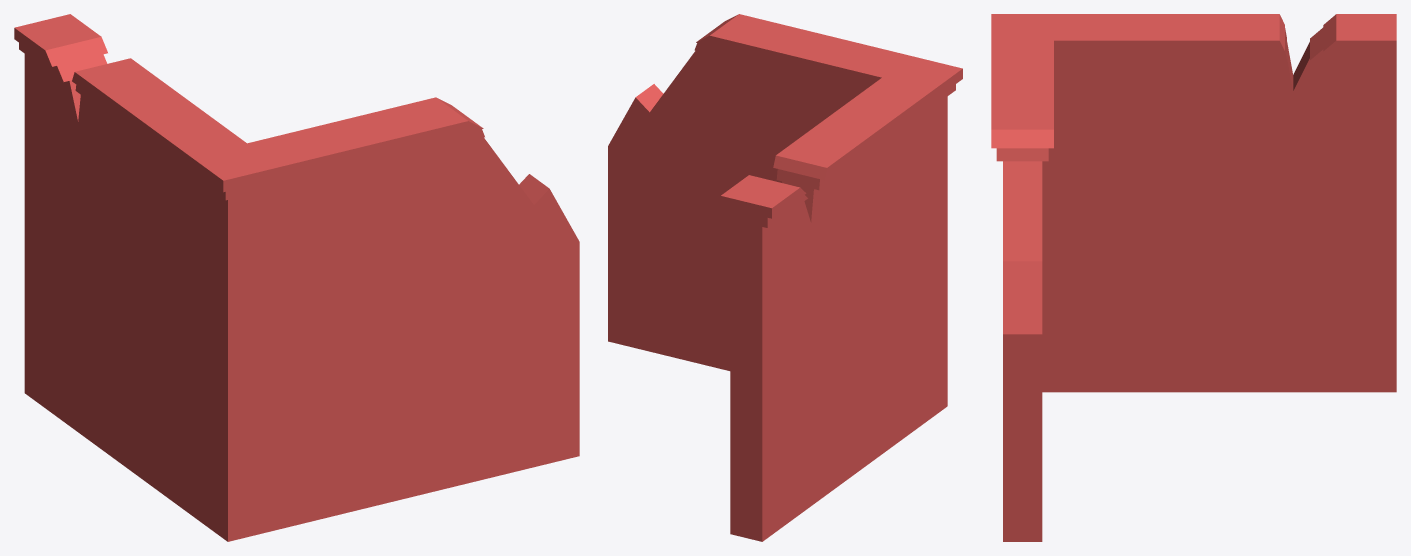
Rendered from WallDestroyed_B.fbx.
3 renders of one model, left to right at view 1: azimuth 30°, elevation 25°; view 2: azimuth 150°, elevation 25°; view 3: azimuth 270°, elevation 25°, orthographic. The views are drawn at different scales.
Parts seen in each view (by area): view 1: Village_Wall_2m_Roof_A.228; view 2: Village_Wall_2m_Roof_A.228; view 3: Village_Wall_2m_Roof_A.228.
Part boxes in pixels (left/top/right/bottom): Village_Wall_2m_Roof_A.228: left=14, top=14, right=579, bottom=541; Village_Wall_2m_Roof_A.228: left=608, top=14, right=962, bottom=541; Village_Wall_2m_Roof_A.228: left=991, top=14, right=1396, bottom=541.
Bounding box in the file's own units: 206 × 200 × 206.
